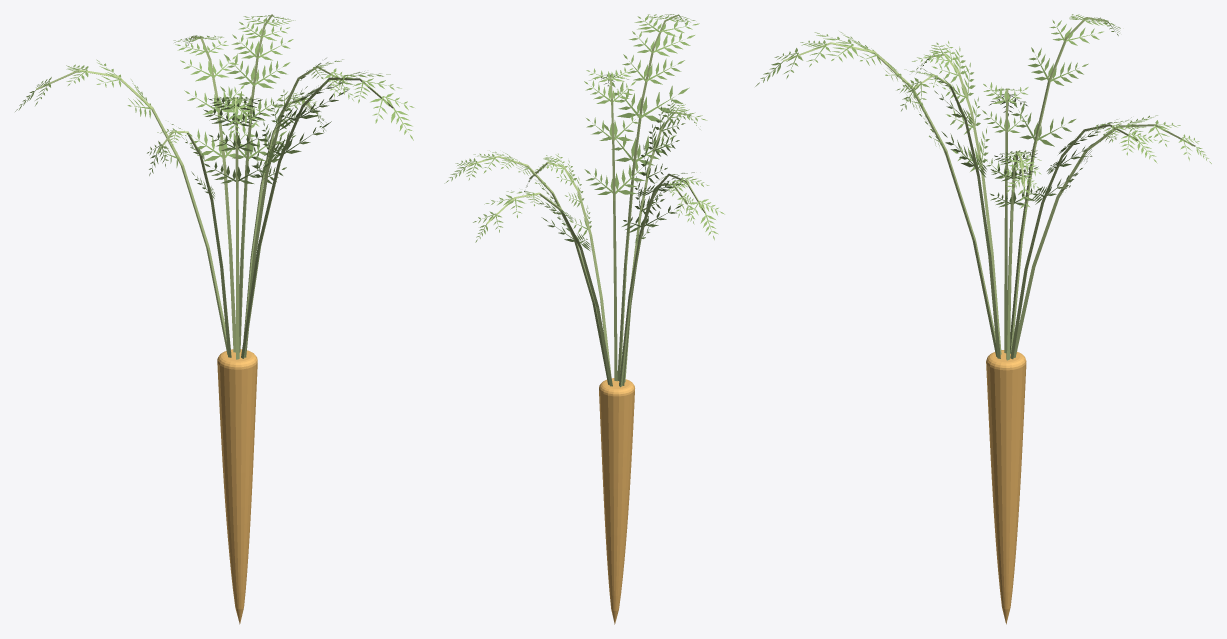
Rendered from carrot_harvest_v22.glb.
3 renders of one model, left to right at view 1: azimuth 30°, elevation 25°; view 2: azimuth 150°, elevation 25°; view 3: azimuth 270°, elevation 25°, orthographic. The views are drawn at different scales.
Parts seen in each view (by area): view 1: plant; view 2: plant; view 3: plant.
Boxes of the visible parts, x1,y1,x2,y2 form: plant: (15, 14, 414, 624); plant: (444, 14, 724, 624); plant: (755, 14, 1211, 624).
Bounding box in the file's own units: 0.2202 × 0.4424 × 0.3074.
Materials: 1 (1 with a texture image).
